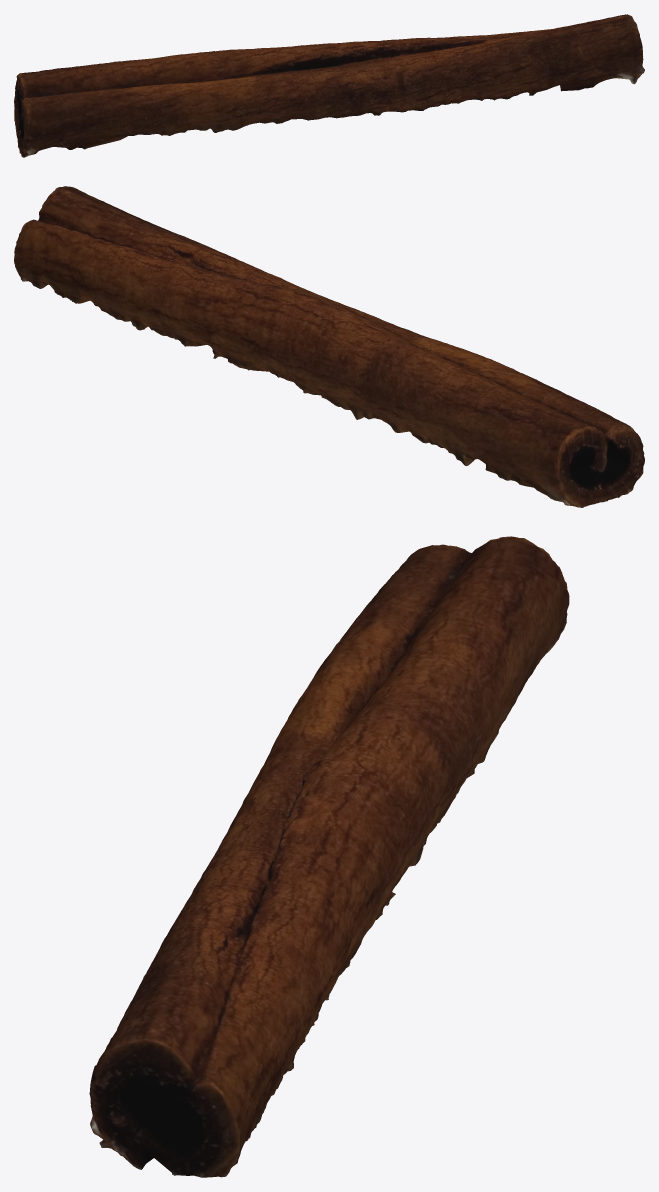
The model's file is cinnamon-stick.glb.
The picture shows the model from 3 angles, top to bottom: view 1: azimuth 30°, elevation 25°; view 2: azimuth 150°, elevation 25°; view 3: azimuth 270°, elevation 25°; orthographic projection. The views are drawn at different scales.
Visible parts, largest first — view 1: model; view 2: model; view 3: model.
Part boxes in pixels (bbox=[...]): model: bbox=[14, 14, 644, 157]; model: bbox=[14, 186, 644, 507]; model: bbox=[89, 536, 569, 1177].
Bounding box in the file's own units: 0.1389 × 0.0157 × 0.0521.
1 material, 1 textured.
